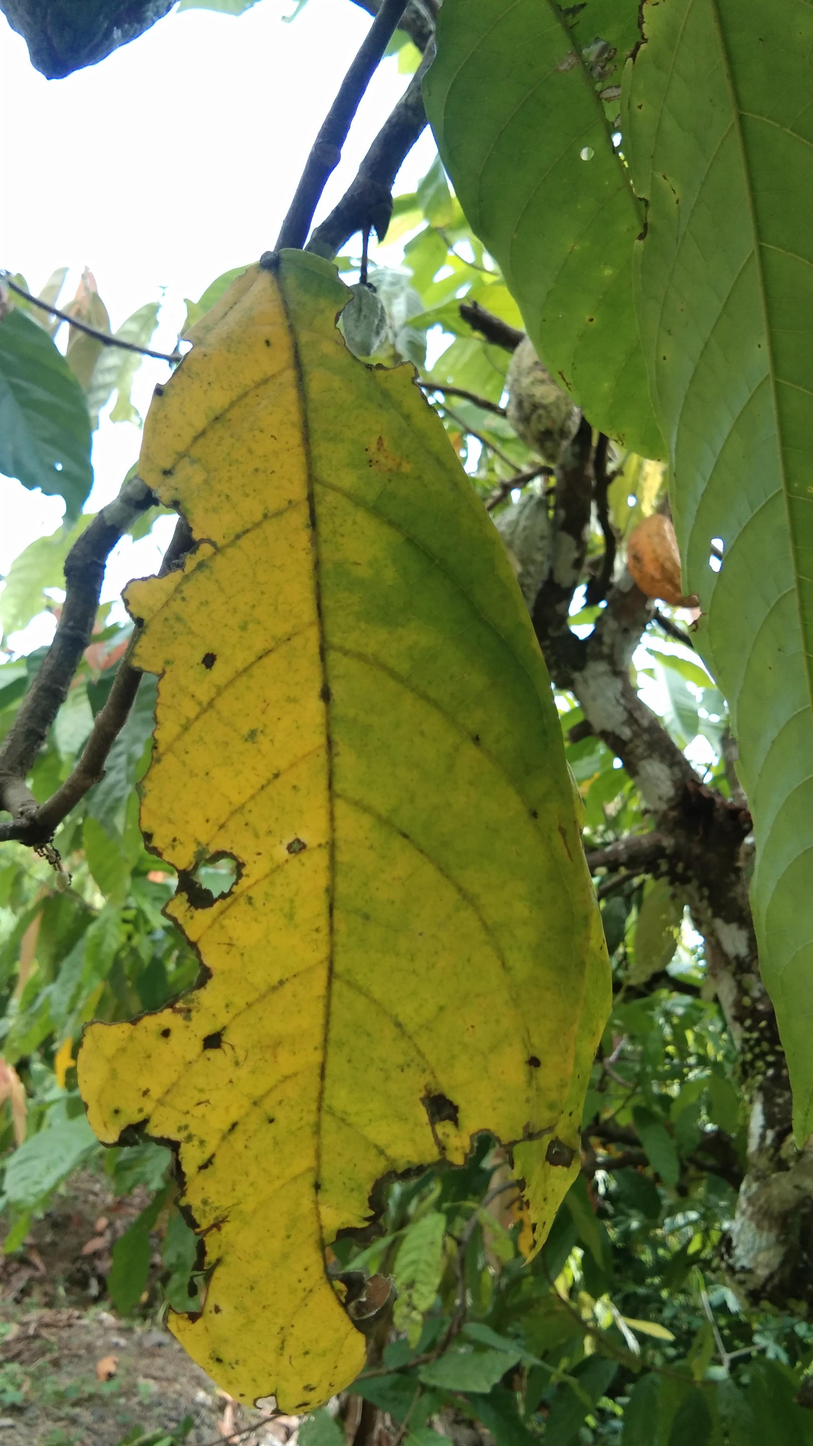deficiencia_potasio: (71, 252, 598, 1409)
